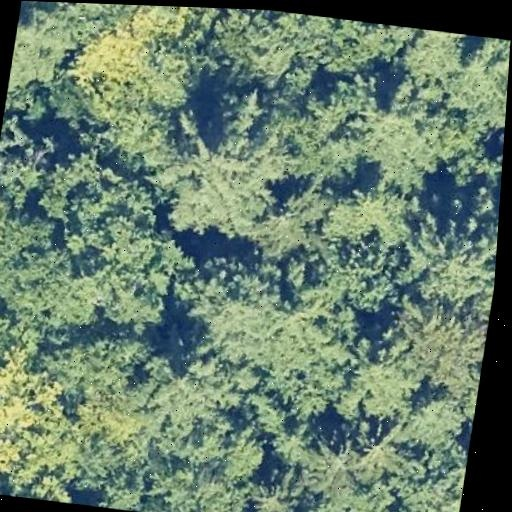tree-top: (138, 92, 286, 239), (27, 134, 172, 253), (63, 3, 206, 118), (0, 200, 123, 332), (173, 248, 295, 371), (266, 285, 373, 425), (347, 80, 468, 195), (84, 220, 192, 343), (140, 413, 271, 512), (0, 333, 75, 487), (384, 291, 492, 397), (262, 85, 365, 195), (39, 322, 149, 416), (317, 228, 421, 327), (375, 25, 474, 126), (290, 14, 422, 87), (5, 0, 90, 110), (200, 8, 317, 87), (249, 169, 338, 270), (139, 349, 242, 435), (409, 213, 499, 303), (333, 344, 425, 428), (323, 180, 422, 258), (371, 437, 470, 512), (442, 37, 511, 134), (289, 428, 369, 503), (0, 119, 60, 213), (287, 474, 427, 512), (401, 381, 470, 450), (348, 421, 410, 495), (0, 294, 64, 362), (237, 461, 305, 512)
